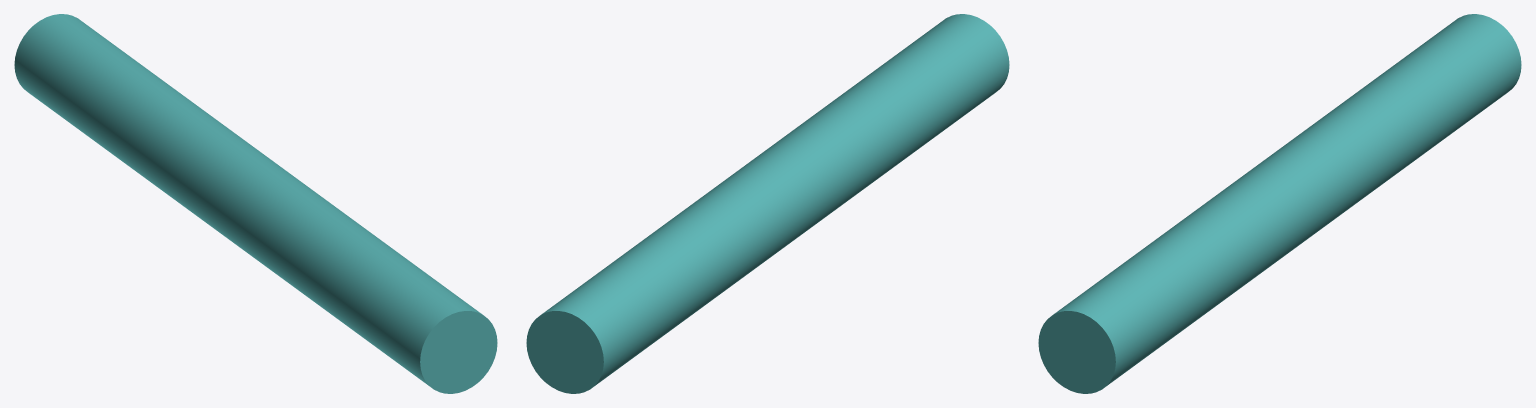
Rendered from Bullet blauw-1.fbx.
The picture shows the model from 3 angles, left to right: view 1: azimuth 30°, elevation 25°; view 2: azimuth 150°, elevation 25°; view 3: azimuth 330°, elevation 25°; orthographic projection.
Parts seen in each view (by area): view 1: Cylinder; view 2: Cylinder; view 3: Cylinder.
Part boxes in pixels (x1=…): Cylinder: x1=14, y1=14, x2=497, y2=393; Cylinder: x1=526, y1=14, x2=1009, y2=393; Cylinder: x1=1038, y1=14, x2=1521, y2=393.
Size of the model in its own units: 14 by 14 by 127.
1 material, 1 textured.
